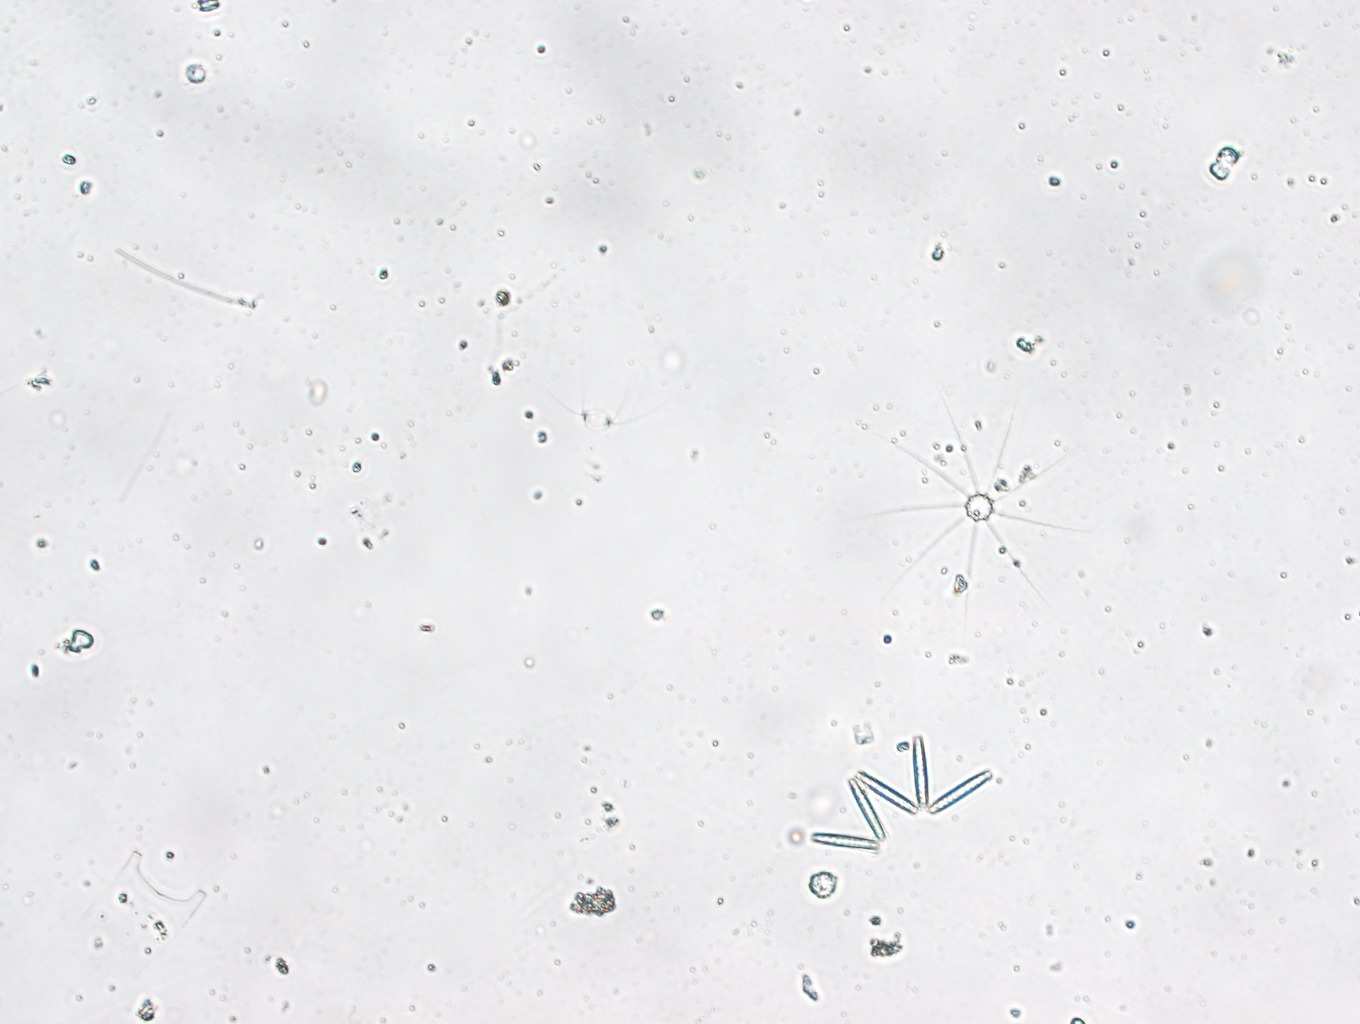bacteriastrum: (842, 392, 1092, 610)
thalassionema nitzschioides: (808, 722, 999, 859)
